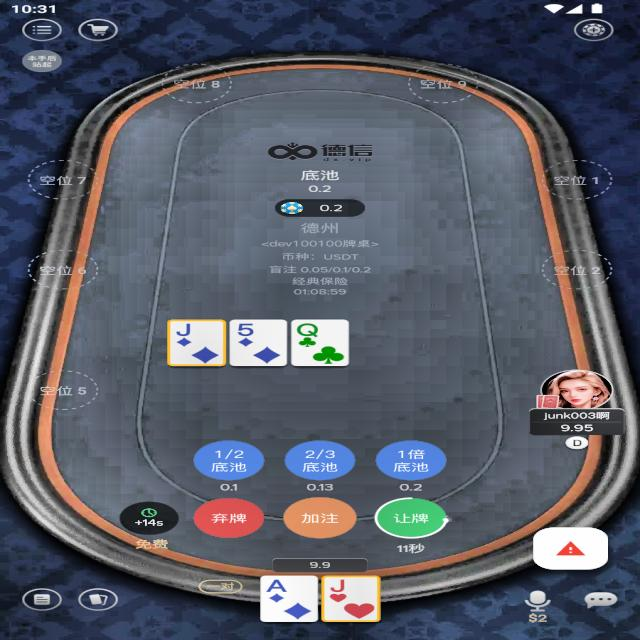5f: (231, 321, 264, 338)
Af: (264, 578, 290, 594)
Jf: (172, 322, 198, 338)
Jh: (326, 578, 350, 594)
Qm: (295, 321, 322, 339)
